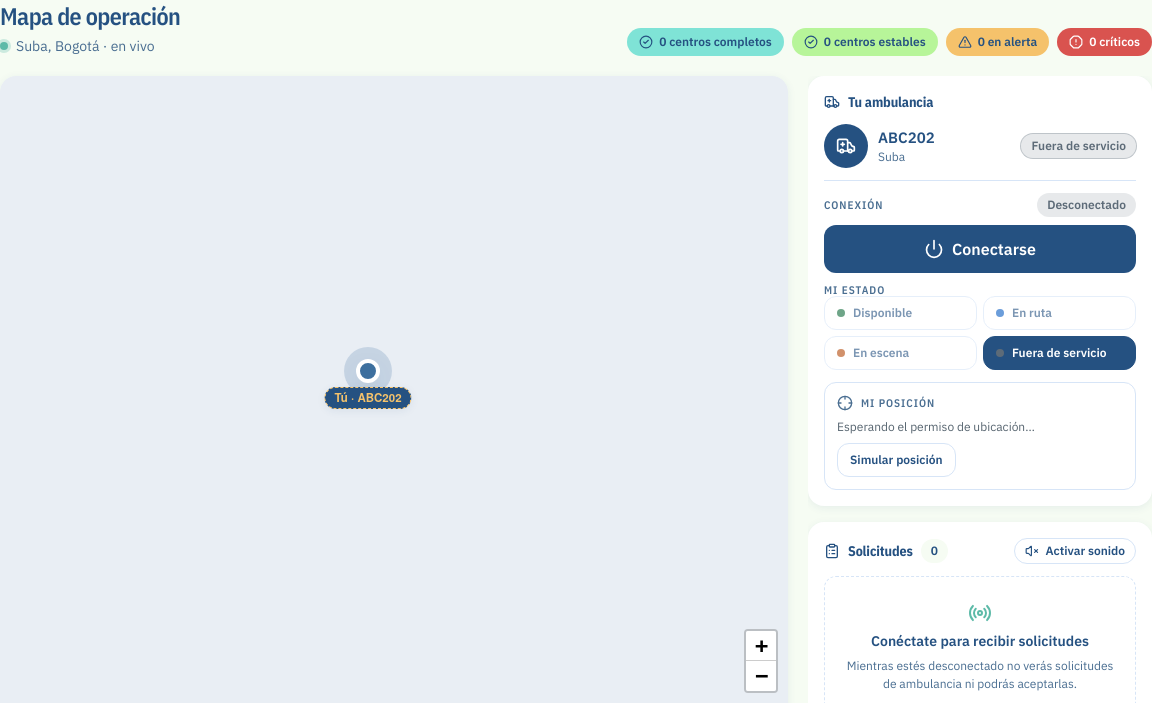
Scenario: DriverConsolePage connection off demo mode › "Conectarse" is a REST command; then the pending request reappears
Expected: the text "Desconectado" is shown, [1037,193,1136,217]
Step 1. Click the button "Conectarse" → (980, 249), box [824,225,1136,273]
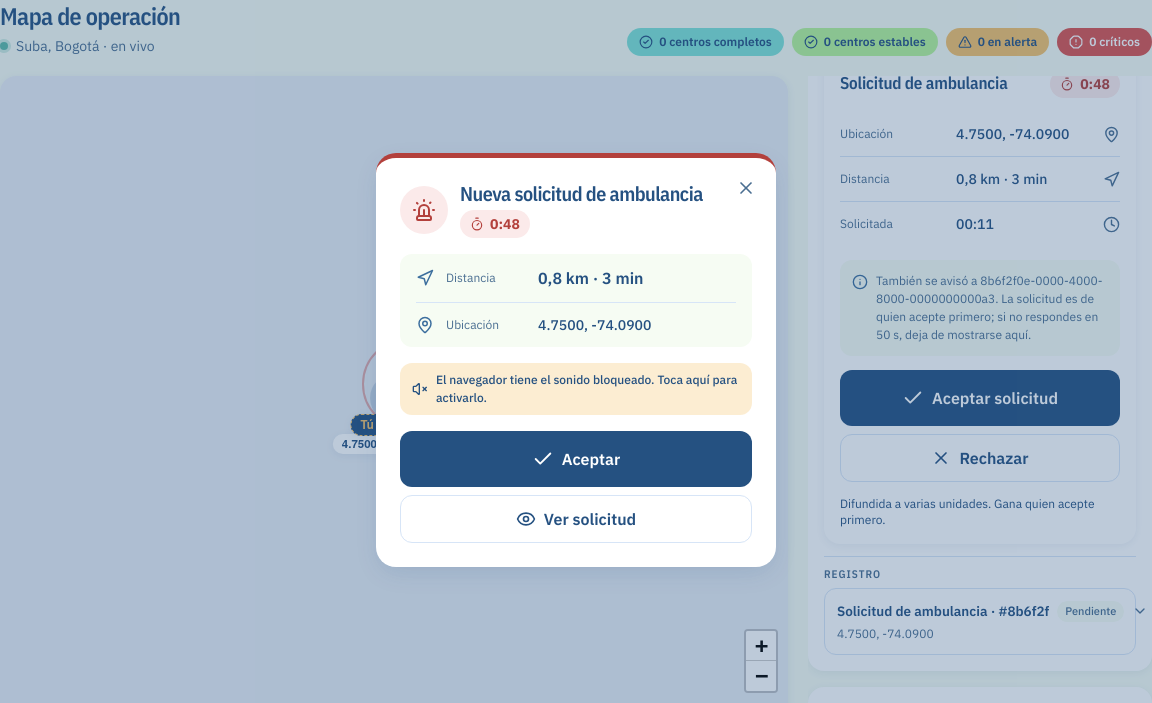
Expected: the button "Aceptar solicitud" is enabled, [840,370,1120,426]
